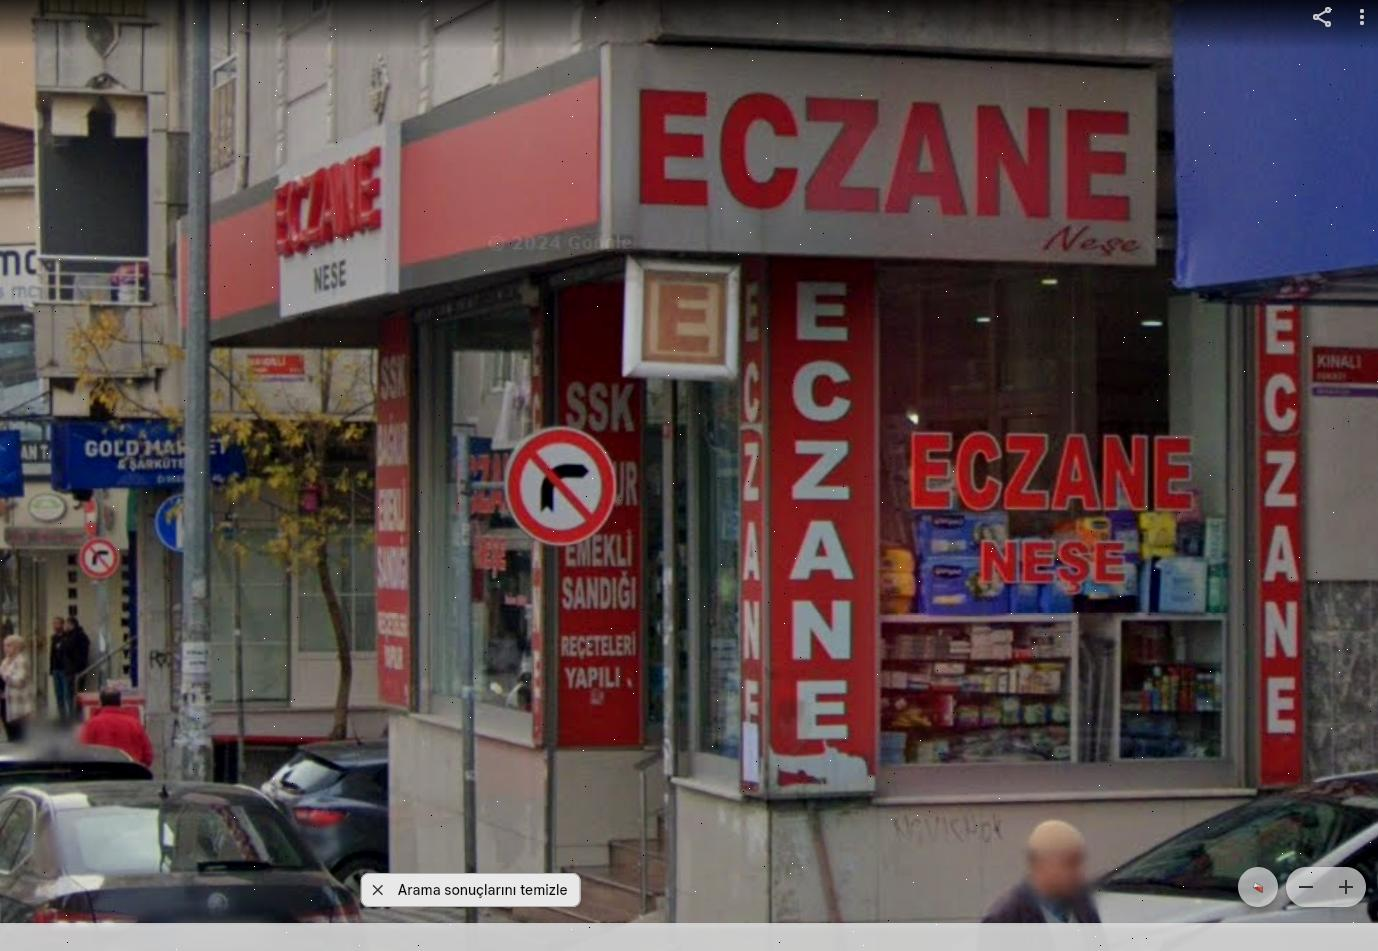rightturnsareforbidden: (502, 424, 622, 543), (81, 537, 118, 576)
